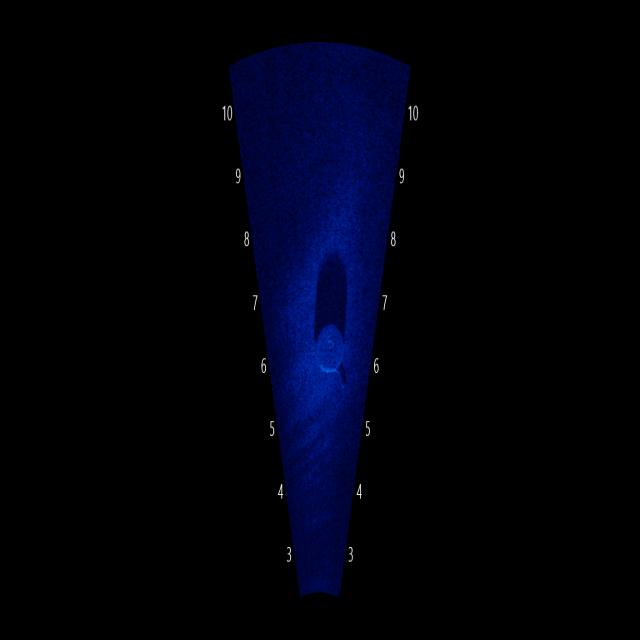circle: (304, 301, 352, 390)
